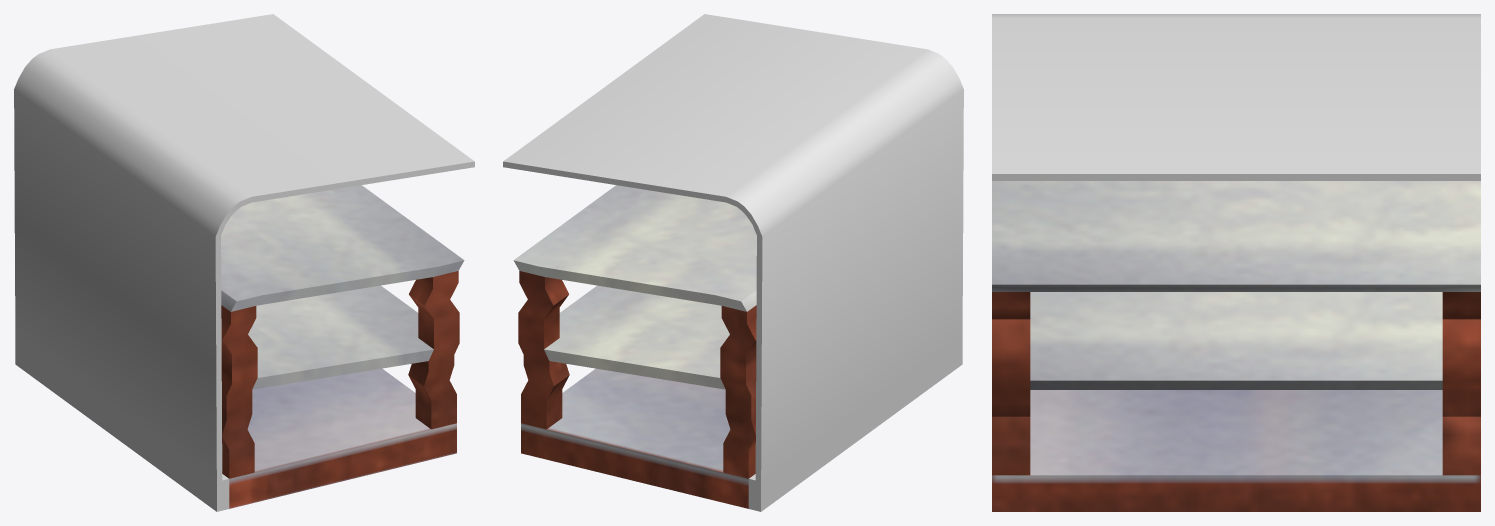
Rendered from Bakery_Display.fbx.
3 views of the same model, side by side, from view 1: azimuth 30°, elevation 25°; view 2: azimuth 150°, elevation 25°; view 3: azimuth 270°, elevation 25° (orthographic). The views are drawn at different scales.
Parts seen in each view (by area): view 1: Cube_1, Main; view 2: Cube_1, Main; view 3: Main, Cube_1.
Part boxes in pixels (left/top/right/bottom): Cube_1: left=14, top=14, right=474, bottom=511; Main: left=221, top=185, right=464, bottom=508; Cube_1: left=503, top=14, right=963, bottom=511; Main: left=513, top=185, right=756, bottom=508; Main: left=992, top=181, right=1480, bottom=511; Cube_1: left=992, top=14, right=1480, bottom=180.
Size of the model in its own units: 114 by 129 by 153.
1 material, 1 textured.
